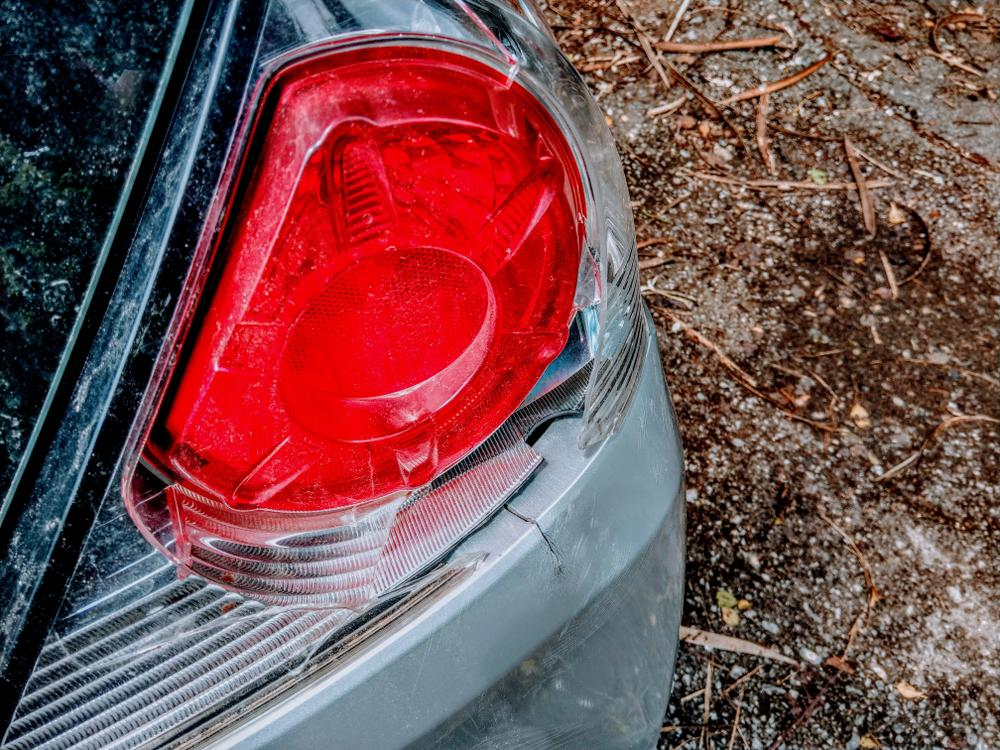crack: (502, 507, 565, 580)
